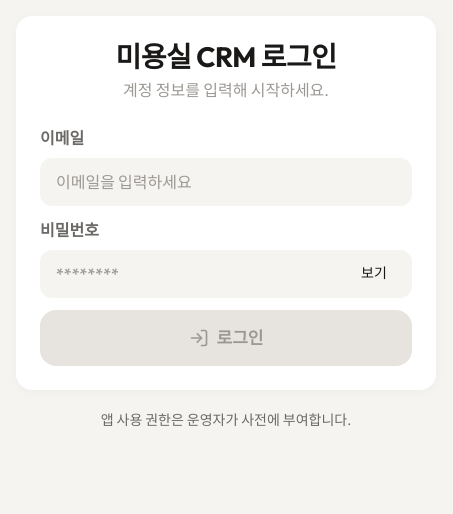
shows a safe Korean action for invalid_credentials
Type "test@example.invalid" into the field labelled "이메일" at (226, 182), box x1=56 y1=159 x2=396 y2=205
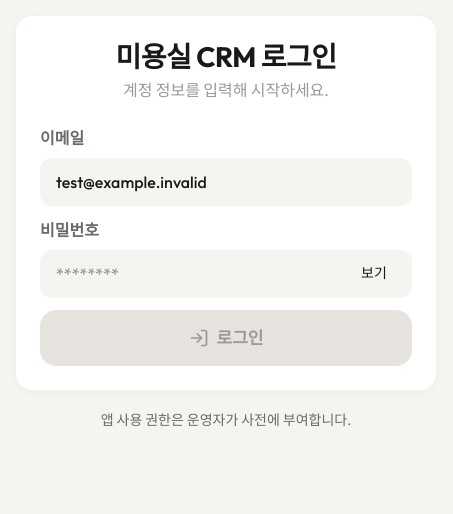
Type "synthetic" into the password field labelled "비밀번호" at (204, 274), box x1=56 y1=251 x2=352 y2=297
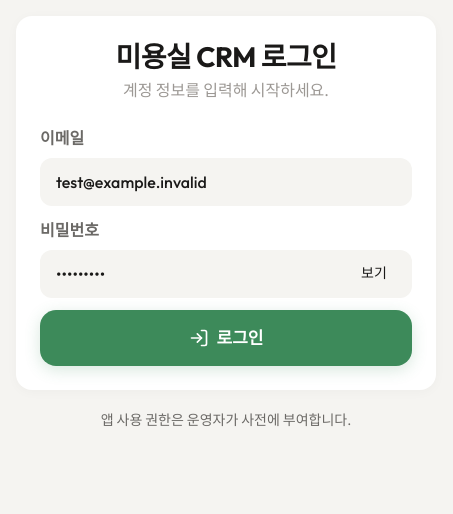
Click the button "로그인" at (226, 338), box x1=40 y1=310 x2=412 y2=366
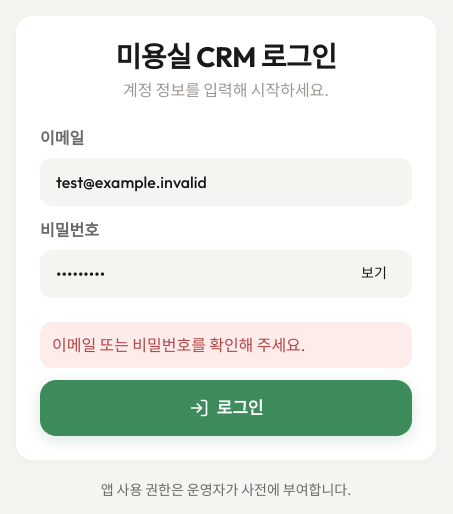
Now the message reads "이메일 또는 비밀번호를 확인해 주세요.", box x1=52 y1=335 x2=306 y2=355
